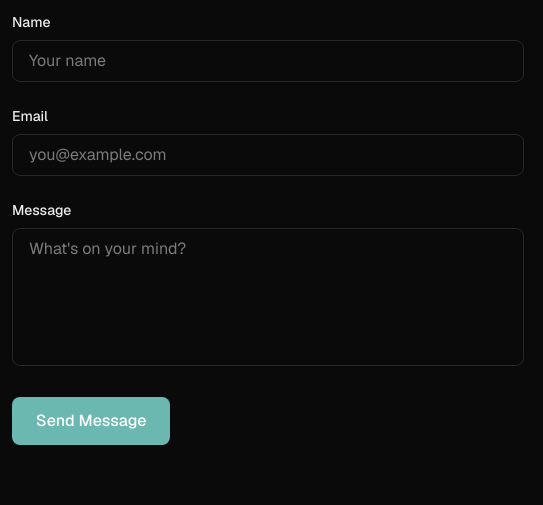
Test: ContactForm › shows error message on failed submission
Type "John Doe" into the field labelled "Name" at (268,61), box [12, 40, 524, 82]
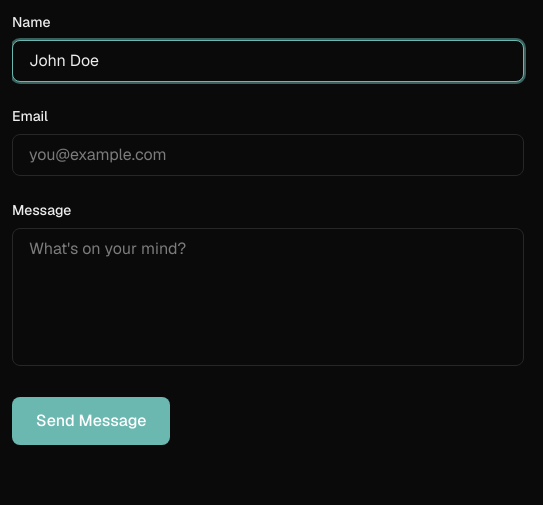
Type "john@example.com" into the field labelled "Email" at (268,155), box [12, 134, 524, 176]
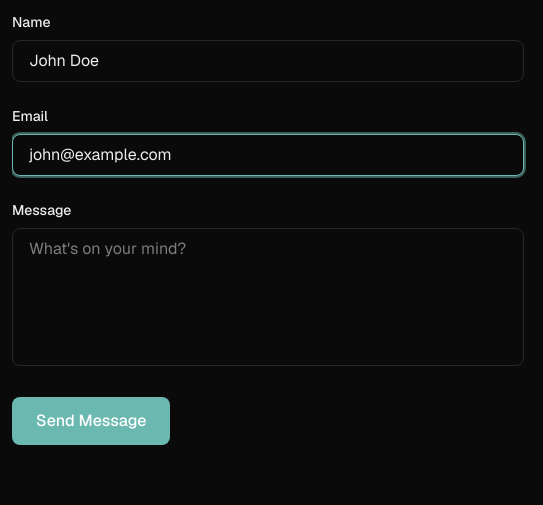
Type "Hello, this is a test message." into the text box labelled "Message" at (268,297), box [12, 228, 524, 366]
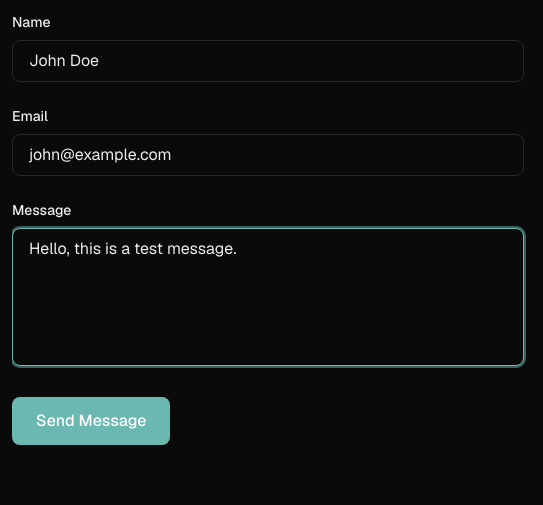
Click the button "Send Message" at (91,421), box [12, 397, 170, 445]
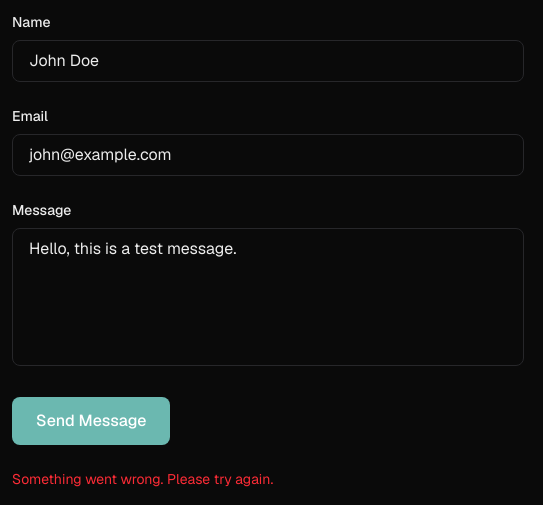
Check: the text "Something went wrong. Please try again." is shown, box [12, 470, 273, 488]
